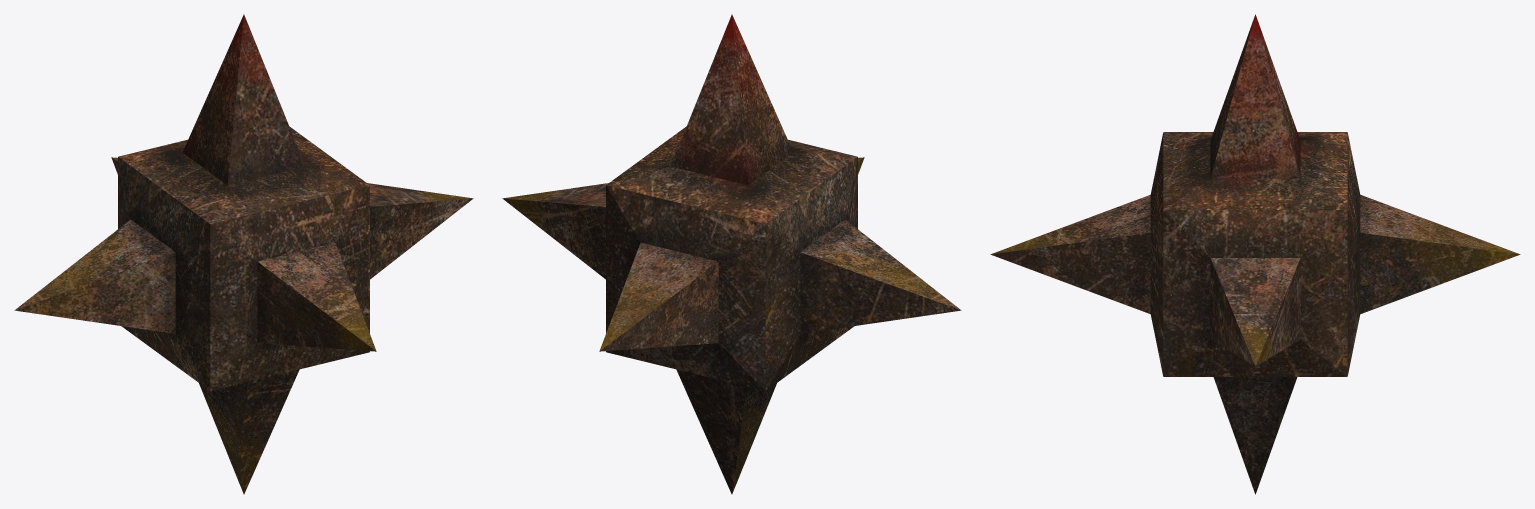
Rendered from pinchos4-6POSTA.fbx.
3 views of the same model, side by side, from view 1: azimuth 30°, elevation 25°; view 2: azimuth 150°, elevation 25°; view 3: azimuth 270°, elevation 25° (orthographic).
Visible parts, largest first — view 1: Cube; view 2: Cube; view 3: Cube.
Boxes of the visible parts, bbox=[...] form: Cube: bbox=[14, 14, 473, 494]; Cube: bbox=[502, 14, 961, 494]; Cube: bbox=[990, 14, 1520, 494].
Bounding box in the file's own units: 708 × 708 × 708.
1 material, 1 textured.
